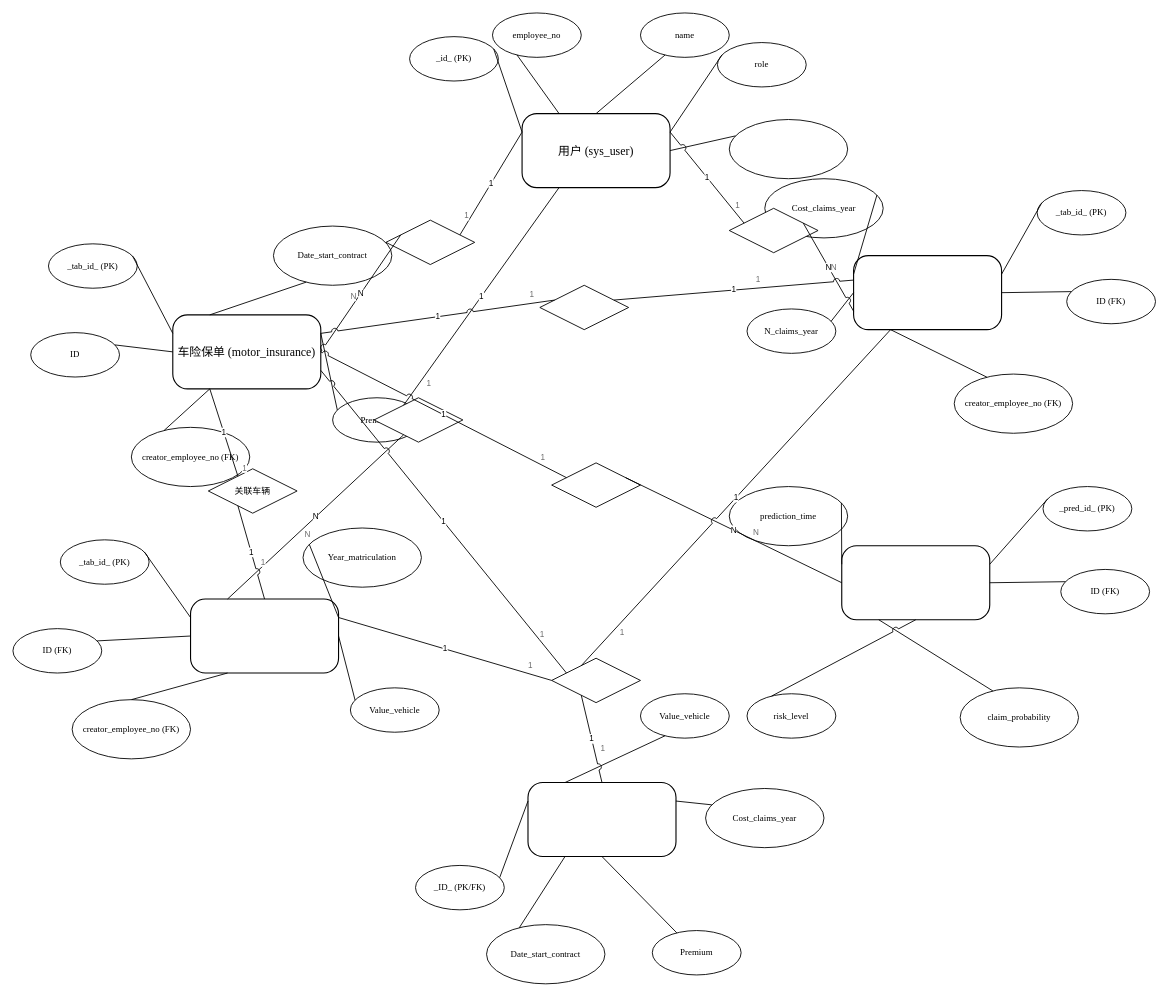
The diagram is 1169 pixels wide and 998 high, and some of its shapes have lost their labels. Here are the shapes that lost their labels. From the top down, the box of each, then its label:
(728, 119, 848, 179): last_login_time
(385, 219, 475, 265): 管理保单
(728, 207, 818, 253): 管理理赔
(539, 284, 629, 330): 关联理赔
(853, 255, 1002, 330): 理赔记录 (claim_record)
(373, 397, 463, 442): 管理车辆
(551, 462, 641, 507): 生成预测
(841, 545, 990, 620): 预测记录 (insur_pred)
(190, 598, 339, 673): 车辆信息 (vehicle_info)
(551, 657, 641, 703): build_train_data
(527, 782, 676, 857): 训练数据 (train_data)
